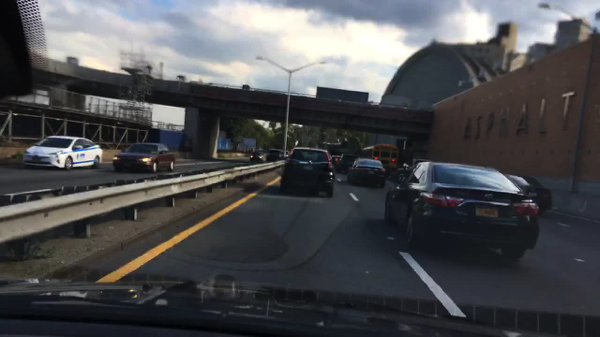bus: (359, 144, 401, 176)
car: (384, 161, 540, 264), (22, 135, 103, 172), (279, 147, 335, 198), (113, 141, 176, 176), (502, 173, 551, 217), (346, 158, 385, 187), (396, 159, 432, 183), (334, 155, 360, 172), (265, 148, 282, 162), (250, 152, 265, 163), (280, 149, 289, 158), (331, 156, 341, 163)
truck: (315, 85, 370, 104), (380, 93, 418, 109)
